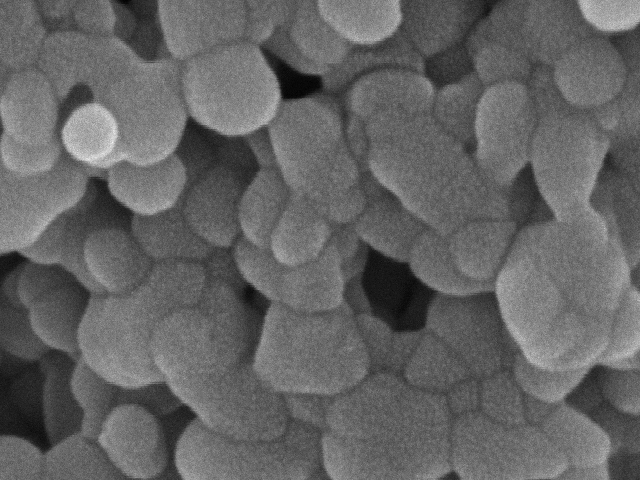nano: (181, 42, 282, 139), (548, 29, 631, 112), (312, 1, 403, 48), (58, 99, 120, 167)
